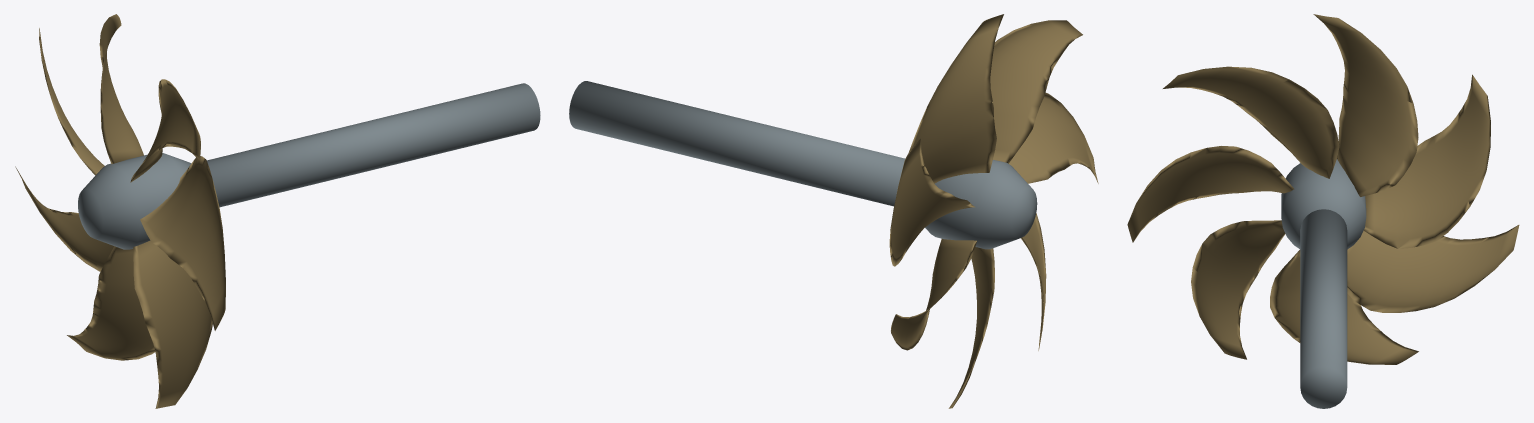
File: US_PROP_LosAngeles_LOD0.fbx
The picture shows the model from 3 angles, left to right: view 1: azimuth 30°, elevation 25°; view 2: azimuth 150°, elevation 25°; view 3: azimuth 270°, elevation 25°; orthographic projection. The views are drawn at different scales.
Parts seen in each view (by area): view 1: US_PROP_LosAngeles_LOD0_Shaft.001, US_PROP_LosAngeles_LOD0_Blade_04.001, US_PROP_LosAngeles_LOD0_Blade_03.001, US_PROP_LosAngeles_LOD0_Hub.001, US_PROP_LosAngeles_LOD0_Blade_05.001, US_PROP_LosAngeles_LOD0_Blade_01.001, US_PROP_LosAngeles_LOD0_Blade_02.001, US_PROP_LosAngeles_LOD0_Blade_06.001, US_PROP_LosAngeles_LOD0_Blade_00.001; view 2: US_PROP_LosAngeles_LOD0_Shaft.001, US_PROP_LosAngeles_LOD0_Blade_01.001, US_PROP_LosAngeles_LOD0_Blade_02.001, US_PROP_LosAngeles_LOD0_Hub.001, US_PROP_LosAngeles_LOD0_Blade_03.001, US_PROP_LosAngeles_LOD0_Blade_00.001, US_PROP_LosAngeles_LOD0_Blade_06.001, US_PROP_LosAngeles_LOD0_Blade_05.001, US_PROP_LosAngeles_LOD0_Blade_04.001; view 3: US_PROP_LosAngeles_LOD0_Blade_00.001, US_PROP_LosAngeles_LOD0_Blade_01.001, US_PROP_LosAngeles_LOD0_Blade_06.001, US_PROP_LosAngeles_LOD0_Shaft.001, US_PROP_LosAngeles_LOD0_Blade_02.001, US_PROP_LosAngeles_LOD0_Blade_04.001, US_PROP_LosAngeles_LOD0_Blade_03.001, US_PROP_LosAngeles_LOD0_Blade_05.001, US_PROP_LosAngeles_LOD0_Hub.001.
Boxes of the visible parts, x1,y1,x2,y2 form: US_PROP_LosAngeles_LOD0_Shaft.001: (206, 83, 540, 207); US_PROP_LosAngeles_LOD0_Blade_04.001: (133, 240, 212, 408); US_PROP_LosAngeles_LOD0_Blade_03.001: (140, 156, 225, 330); US_PROP_LosAngeles_LOD0_Hub.001: (78, 153, 191, 249); US_PROP_LosAngeles_LOD0_Blade_05.001: (67, 246, 155, 360); US_PROP_LosAngeles_LOD0_Blade_01.001: (99, 14, 143, 164); US_PROP_LosAngeles_LOD0_Blade_02.001: (130, 79, 200, 182); US_PROP_LosAngeles_LOD0_Blade_06.001: (15, 166, 113, 271); US_PROP_LosAngeles_LOD0_Blade_00.001: (39, 28, 104, 175); US_PROP_LosAngeles_LOD0_Shaft.001: (569, 81, 905, 206); US_PROP_LosAngeles_LOD0_Blade_01.001: (908, 14, 1003, 183); US_PROP_LosAngeles_LOD0_Blade_02.001: (990, 20, 1082, 163); US_PROP_LosAngeles_LOD0_Hub.001: (925, 160, 1037, 249); US_PROP_LosAngeles_LOD0_Blade_03.001: (1008, 92, 1098, 183); US_PROP_LosAngeles_LOD0_Blade_00.001: (889, 138, 975, 266); US_PROP_LosAngeles_LOD0_Blade_06.001: (891, 239, 976, 350); US_PROP_LosAngeles_LOD0_Blade_05.001: (948, 247, 994, 408); US_PROP_LosAngeles_LOD0_Blade_04.001: (1021, 213, 1046, 350); US_PROP_LosAngeles_LOD0_Blade_00.001: (1363, 74, 1490, 248); US_PROP_LosAngeles_LOD0_Blade_01.001: (1313, 14, 1418, 196); US_PROP_LosAngeles_LOD0_Blade_06.001: (1347, 225, 1519, 312); US_PROP_LosAngeles_LOD0_Shaft.001: (1300, 209, 1347, 408); US_PROP_LosAngeles_LOD0_Blade_02.001: (1163, 66, 1339, 178); US_PROP_LosAngeles_LOD0_Blade_04.001: (1191, 220, 1285, 359); US_PROP_LosAngeles_LOD0_Blade_03.001: (1127, 146, 1294, 242); US_PROP_LosAngeles_LOD0_Blade_05.001: (1270, 250, 1418, 364); US_PROP_LosAngeles_LOD0_Hub.001: (1281, 159, 1366, 249).
Size of the model in its own units: 612 by 485 by 474.
